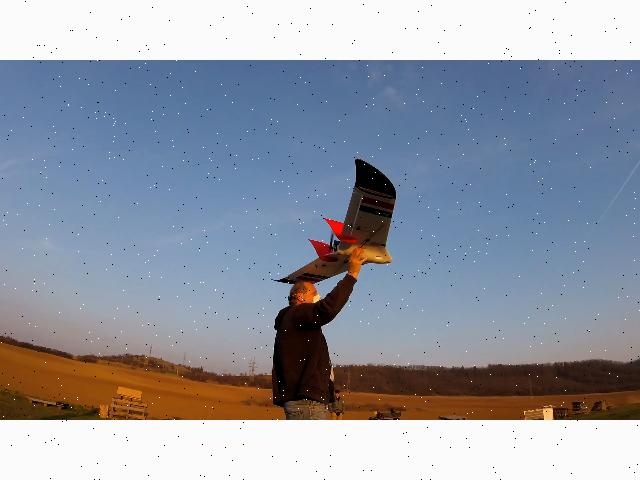Anti-Drone: (259, 154, 401, 287)
